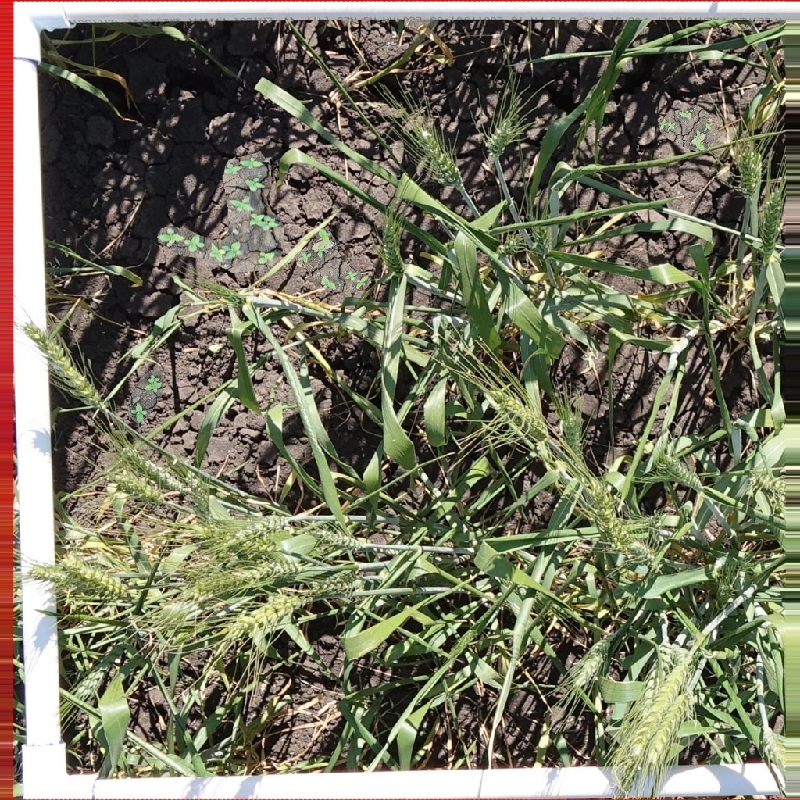spikelet: (626, 643, 697, 764), (16, 317, 107, 409), (158, 553, 297, 613), (220, 586, 310, 641), (409, 117, 464, 188), (118, 444, 195, 493), (483, 383, 550, 439), (56, 553, 133, 600), (218, 509, 294, 547), (584, 476, 622, 534), (654, 449, 706, 491), (569, 636, 612, 686), (731, 136, 764, 198), (756, 190, 783, 254), (308, 566, 362, 596), (70, 663, 109, 702), (307, 524, 364, 550), (483, 115, 519, 156), (749, 463, 788, 499), (378, 220, 404, 274)
weed: (157, 151, 284, 273), (288, 218, 373, 309), (654, 92, 727, 166), (119, 363, 173, 427)
